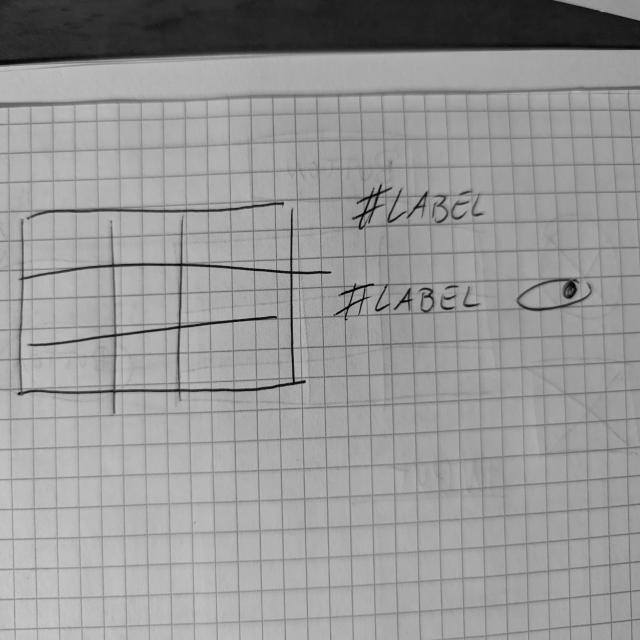label: (354, 182, 492, 234), (337, 276, 483, 325)
table: (17, 198, 302, 404)
toggle: (514, 274, 596, 316)
